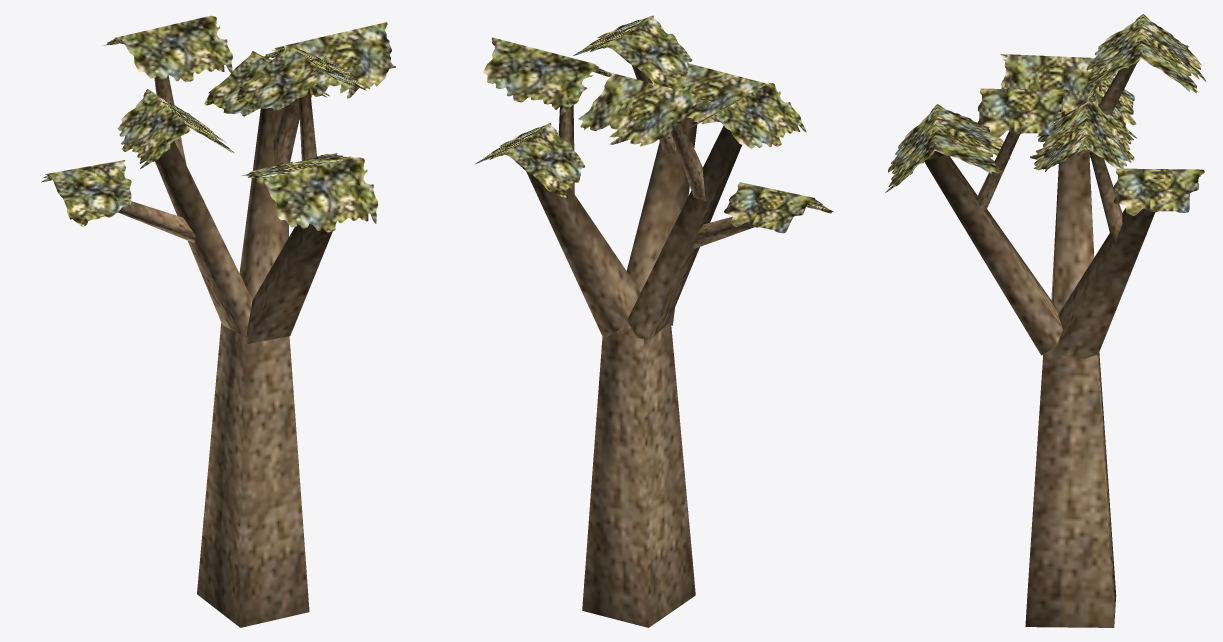
File: JoshuaTree.fbx
3 views of the same model, side by side, from view 1: azimuth 30°, elevation 25°; view 2: azimuth 150°, elevation 25°; view 3: azimuth 270°, elevation 25° (orthographic). The views are drawn at different scales.
Visible parts, largest first — view 1: pasted__pasted__joshua_tree7; view 2: pasted__pasted__joshua_tree7; view 3: pasted__pasted__joshua_tree7.
Part boxes in pixels (left/top/right/bottom): pasted__pasted__joshua_tree7: left=41, top=15, right=395, bottom=627; pasted__pasted__joshua_tree7: left=474, top=15, right=833, bottom=627; pasted__pasted__joshua_tree7: left=885, top=14, right=1206, bottom=627.
Size of the model in its own units: 2.27 by 3.58 by 1.96.
